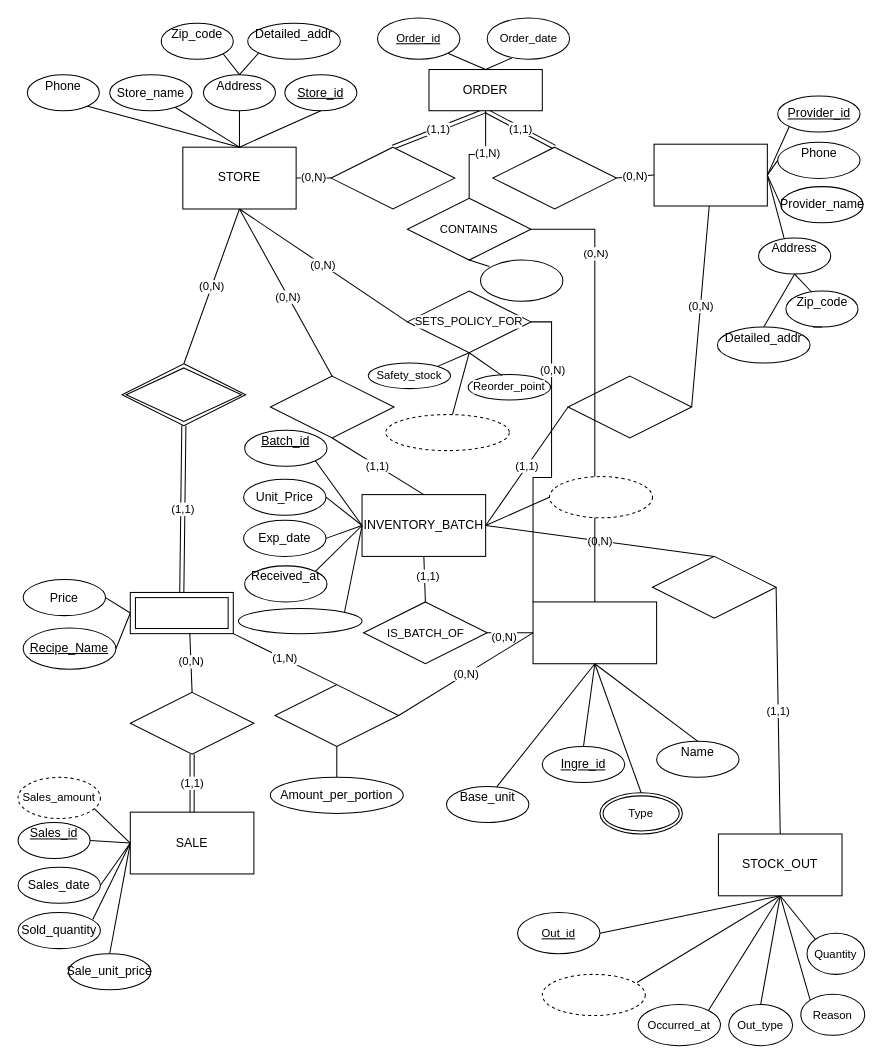
This 883x1064 diagram has some shape labels left out. Here are the shapes that lost their labels. From the top down, the box of each, then its label:
(330, 146, 455, 209): PLACES
(492, 146, 616, 209): SENT_TO
(653, 143, 767, 206): PROVIDER
(479, 259, 563, 301): Ordered_ quantity
(121, 363, 246, 426): HAS_RECIPE
(269, 375, 394, 438): HAS_STOCK
(567, 375, 692, 438): SUPPLIES
(385, 414, 509, 451): Expected_depletion_ date
(548, 476, 653, 518): Current_quantity
(651, 555, 776, 618): HAS_OUTFLOW
(129, 591, 233, 634): RECIPE
(237, 607, 362, 634): Received_quantity
(532, 601, 657, 664): INGREDIENT
(129, 691, 254, 754): HAS_SALES
(274, 684, 399, 746): CONSISTS_OF
(541, 973, 645, 1016): Waste_cost
